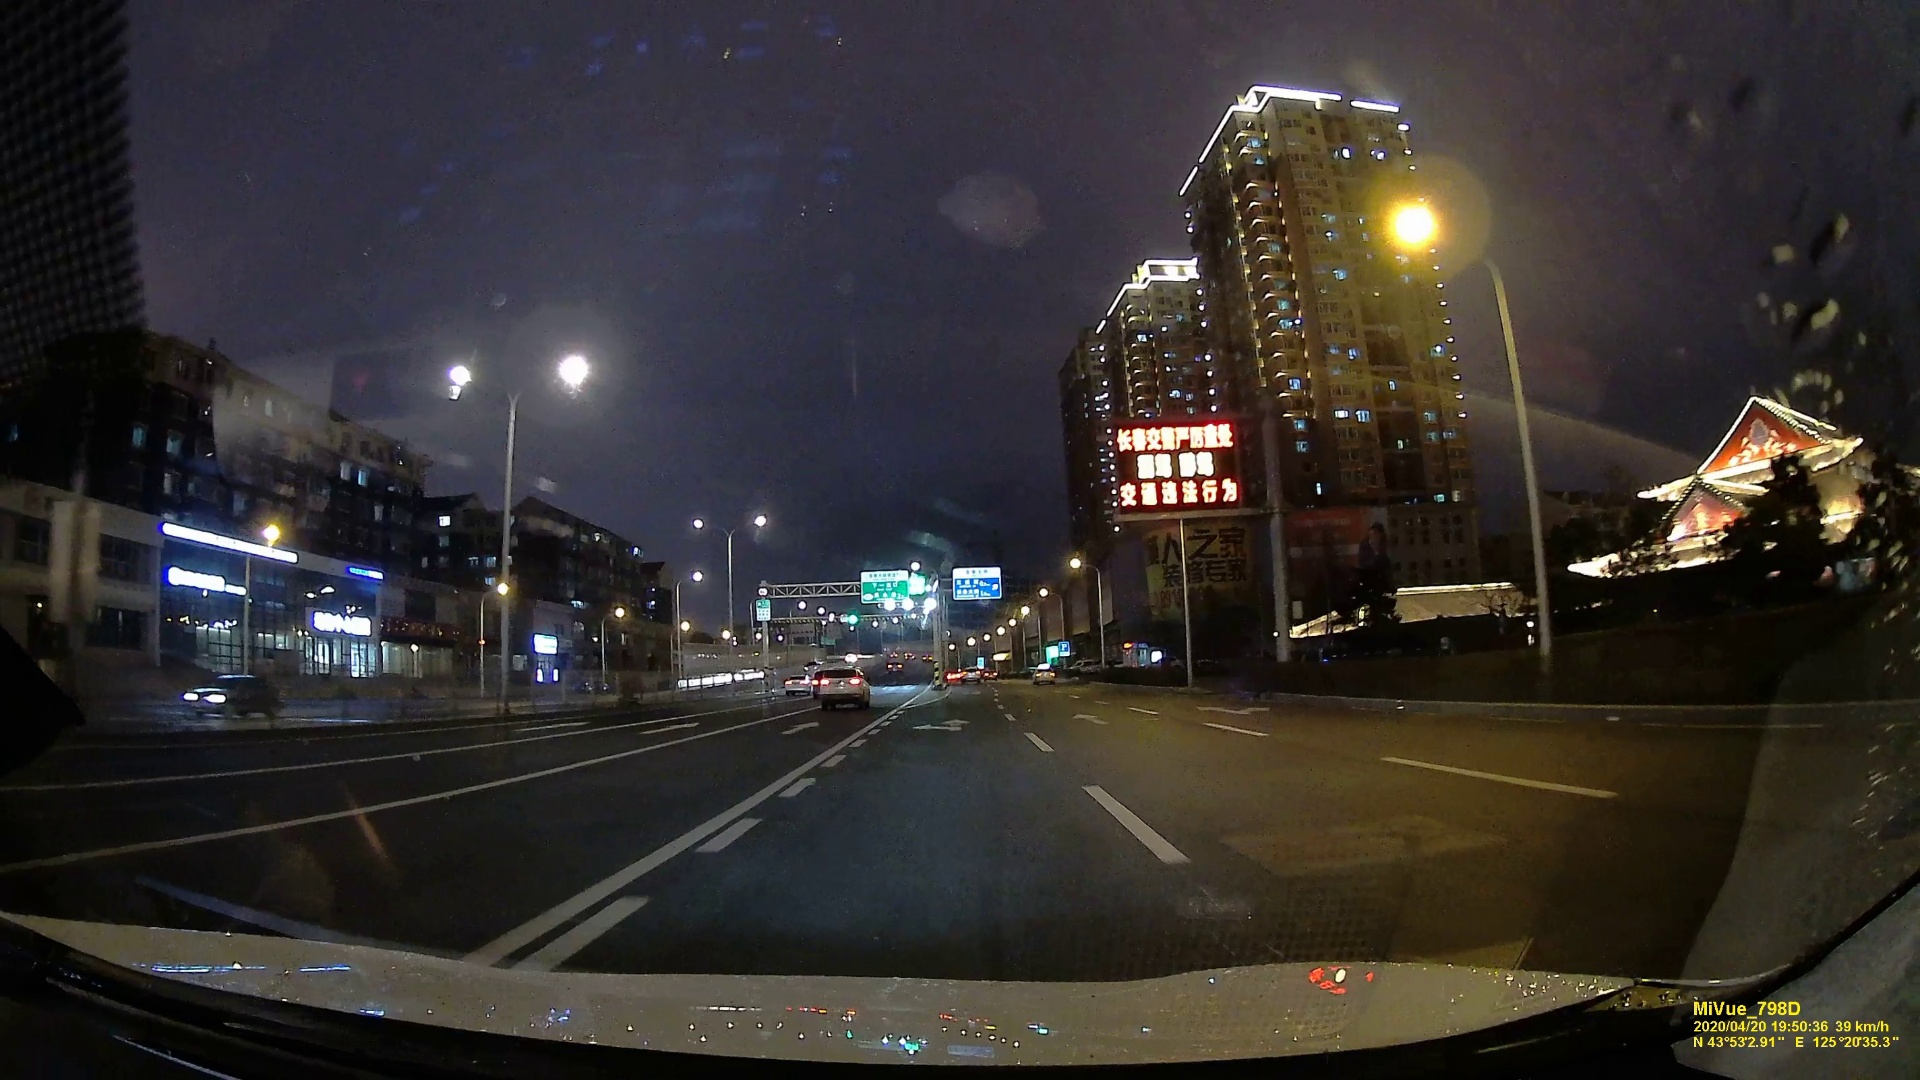traffic_sign: (953, 566, 1001, 599), (861, 574, 907, 599)
vehicle: (175, 675, 280, 723), (818, 667, 868, 707), (785, 673, 810, 694), (1033, 667, 1052, 683)
